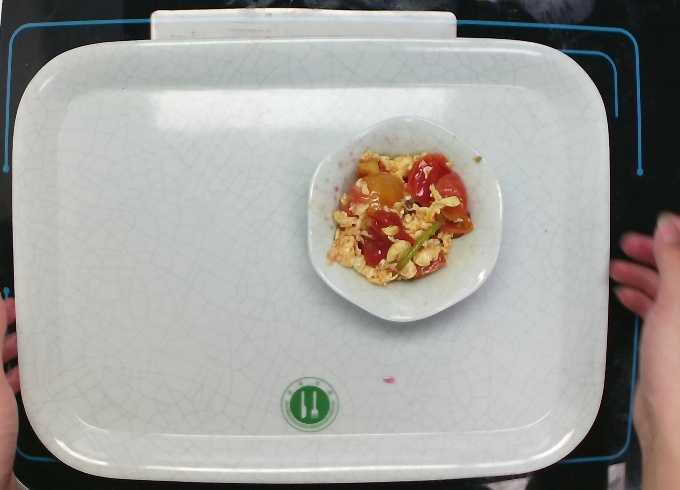WCQzf-Hua_Duo_Wan: (299, 110, 506, 331)
